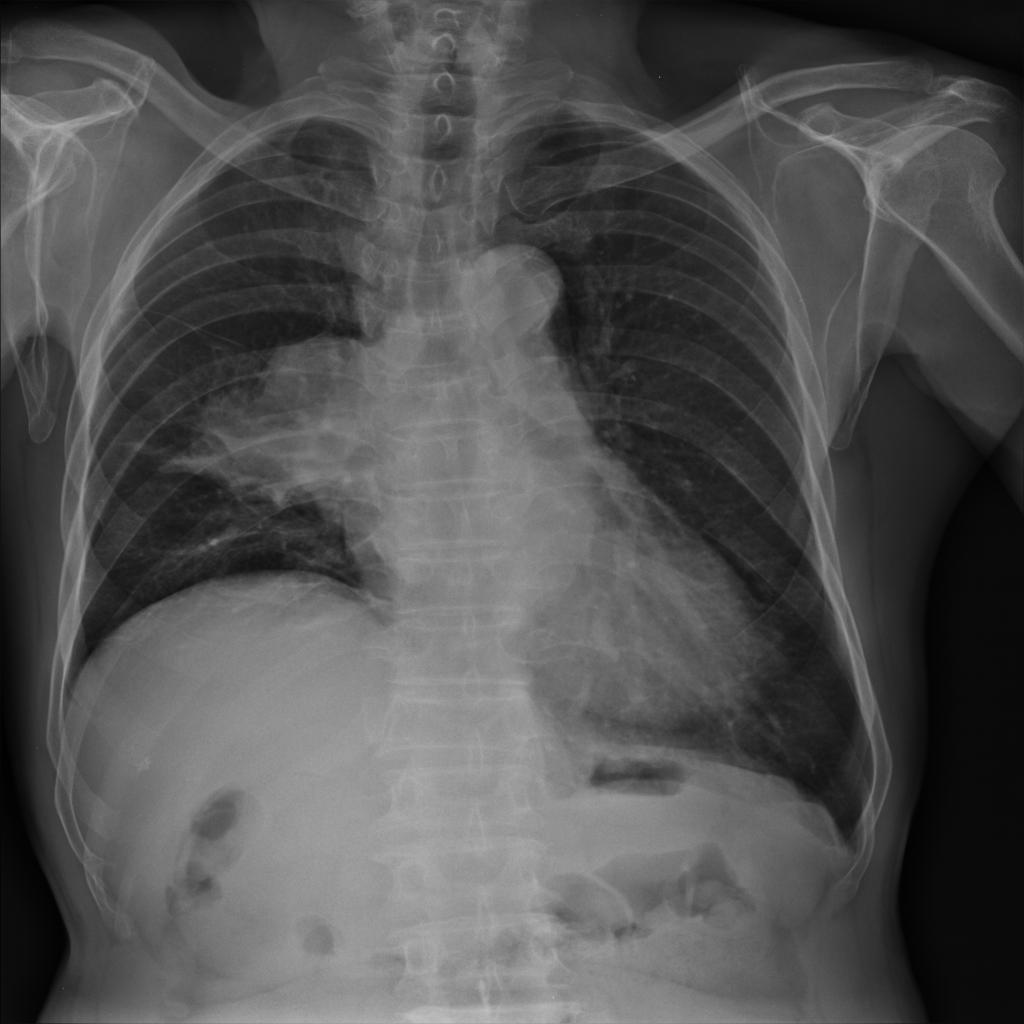Nodule: (219, 341, 362, 463)
